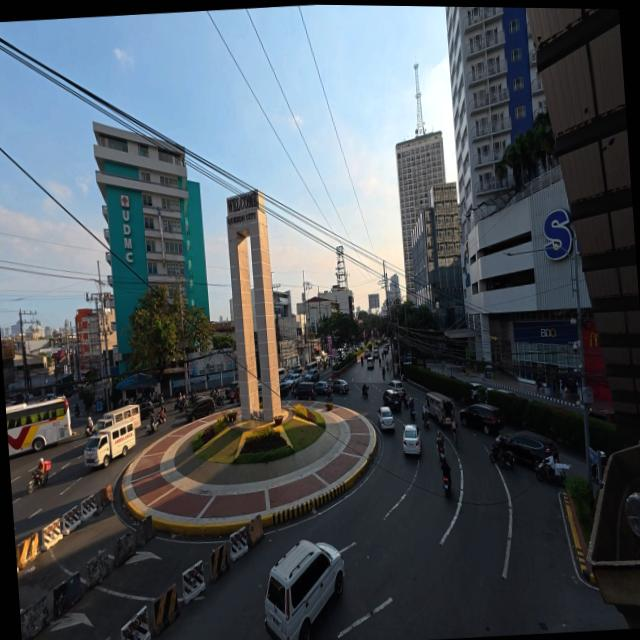Jeepneys: (427, 392, 454, 427)
car: (265, 540, 345, 639), (6, 397, 71, 456), (504, 431, 558, 466), (460, 403, 504, 434), (186, 397, 215, 421), (403, 424, 421, 455), (378, 406, 395, 430), (383, 389, 402, 410), (295, 382, 316, 401), (589, 409, 616, 422), (486, 388, 518, 397), (471, 383, 485, 402), (140, 401, 154, 420), (333, 379, 349, 393), (285, 373, 301, 386), (229, 387, 240, 404), (389, 380, 403, 393), (315, 381, 328, 395), (305, 370, 319, 382), (280, 382, 290, 396), (291, 364, 303, 374), (372, 346, 380, 358), (367, 358, 374, 369), (366, 350, 372, 358), (361, 343, 364, 348)
motorcycle: (536, 462, 570, 486), (490, 443, 514, 469), (27, 470, 49, 492), (210, 391, 224, 407), (145, 420, 159, 435), (150, 392, 164, 406), (443, 475, 451, 495), (82, 424, 94, 437), (158, 409, 166, 423), (438, 446, 445, 462), (175, 399, 184, 411), (402, 392, 408, 408), (325, 389, 333, 401), (74, 403, 80, 418), (190, 393, 197, 405), (423, 413, 429, 426), (362, 389, 369, 398), (410, 407, 415, 419), (382, 370, 385, 379), (361, 358, 363, 365)
vans: (84, 421, 135, 467), (94, 405, 141, 431), (304, 360, 318, 373), (279, 368, 286, 382)
